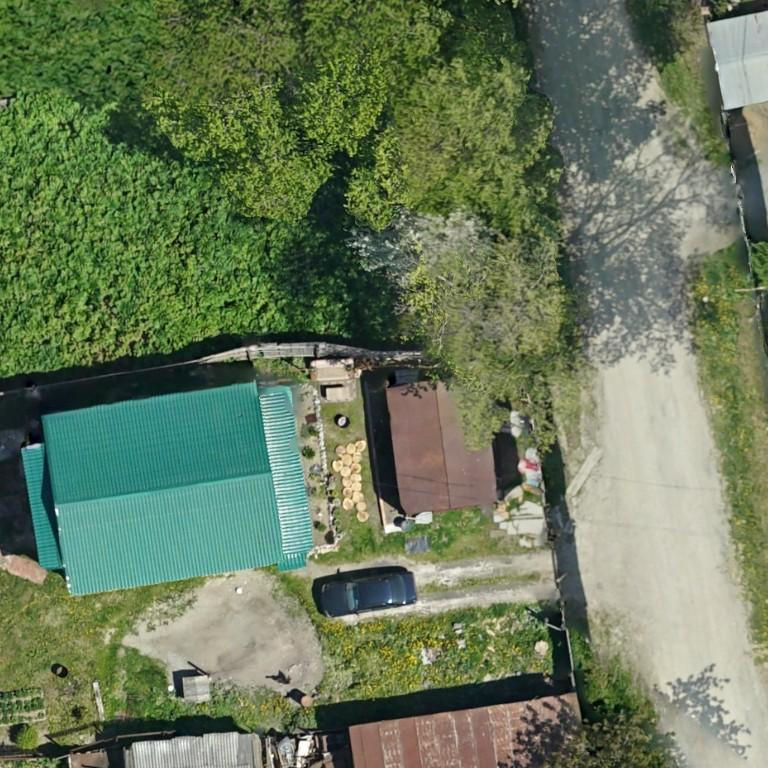hogweed: (0, 91, 377, 378)
